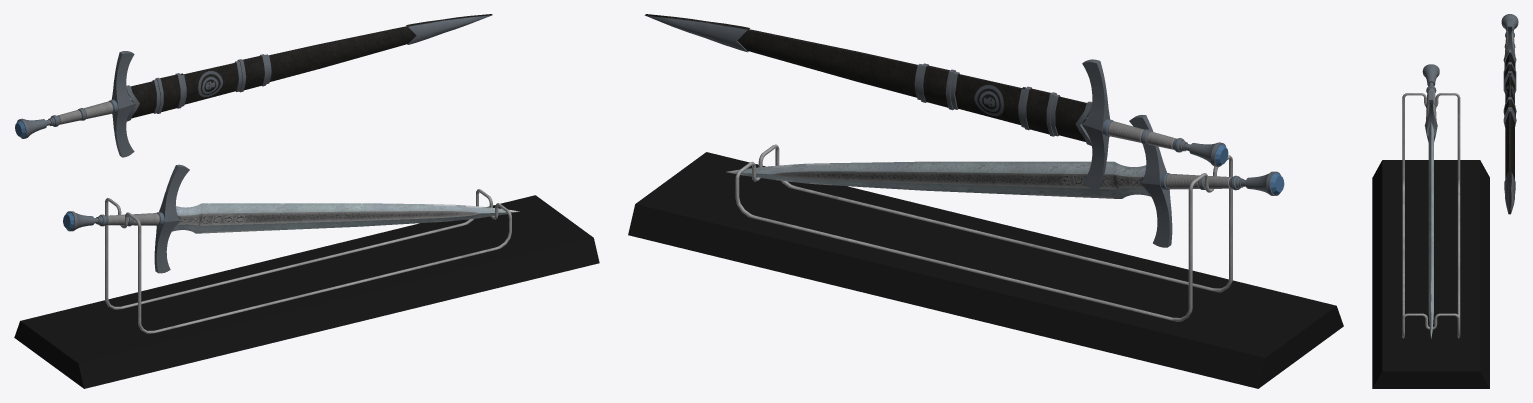
The picture shows the model from 3 angles, left to right: view 1: azimuth 30°, elevation 25°; view 2: azimuth 150°, elevation 25°; view 3: azimuth 270°, elevation 25°; orthographic projection. The views are drawn at different scales.
Parts seen in each view (by area): view 1: Box002, sword_lp_sword_mat_0, Object004_scabbard_mat_0, Line002_stand_mat_0, sword_lp001_sword_mat_0; view 2: Box002, sword_lp_sword_mat_0, Object004_scabbard_mat_0, Line002_stand_mat_0, sword_lp001_sword_mat_0; view 3: Box002, Line002_stand_mat_0, sword_lp_sword_mat_0, Object004_scabbard_mat_0, sword_lp001_sword_mat_0.
Part boxes in pixels (x1,y1,x2,y2): Box002: (14,195,599,388); sword_lp_sword_mat_0: (63,164,519,273); Object004_scabbard_mat_0: (126,14,492,121); Line002_stand_mat_0: (105,189,511,333); sword_lp001_sword_mat_0: (15,51,134,157); Box002: (628,152,1343,388); sword_lp_sword_mat_0: (726,115,1284,247); Object004_scabbard_mat_0: (644,14,1092,145); Line002_stand_mat_0: (735,144,1232,321); sword_lp001_sword_mat_0: (1081,59,1228,189); Box002: (1372,160,1489,388); Line002_stand_mat_0: (1402,93,1460,338); sword_lp_sword_mat_0: (1422,64,1439,338); Object004_scabbard_mat_0: (1503,49,1516,214); sword_lp001_sword_mat_0: (1501,14,1518,62).
Size of the model in its own units: 1.28 by 0.5842 by 0.3725.
Materials: 3 (3 with a texture image).
